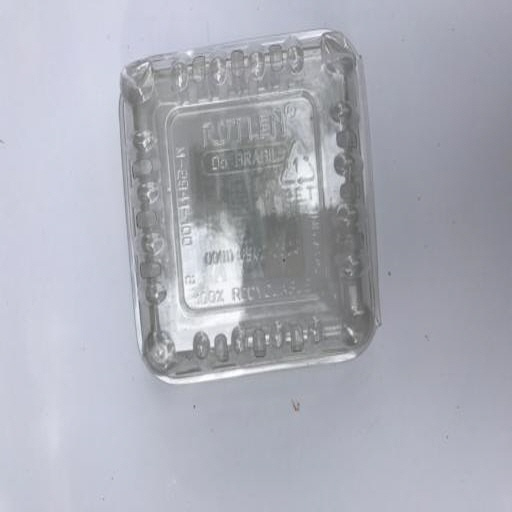Plastic_4: (115, 28, 384, 386)
